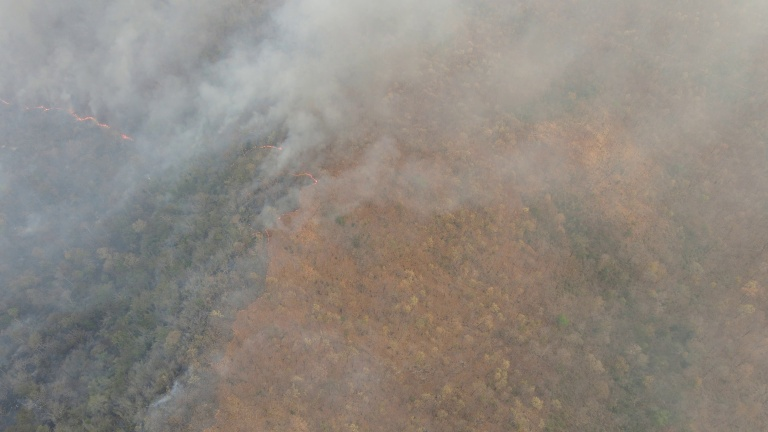fire: (3, 93, 139, 149), (243, 139, 288, 162), (261, 210, 282, 255), (289, 165, 319, 185)
smoke: (84, 1, 486, 202), (146, 358, 209, 423)
